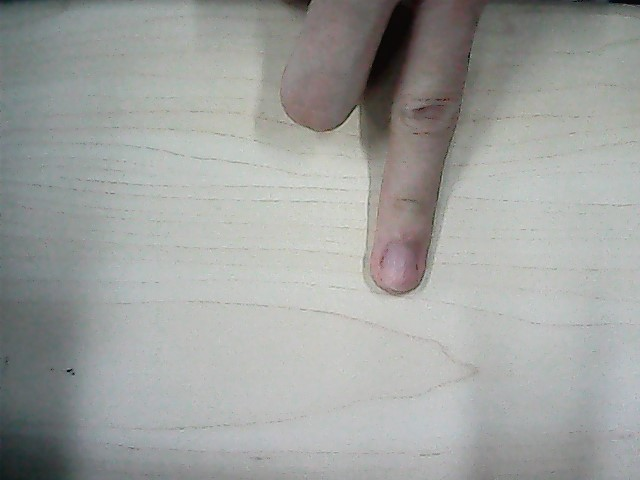nail: (378, 242, 421, 292)
